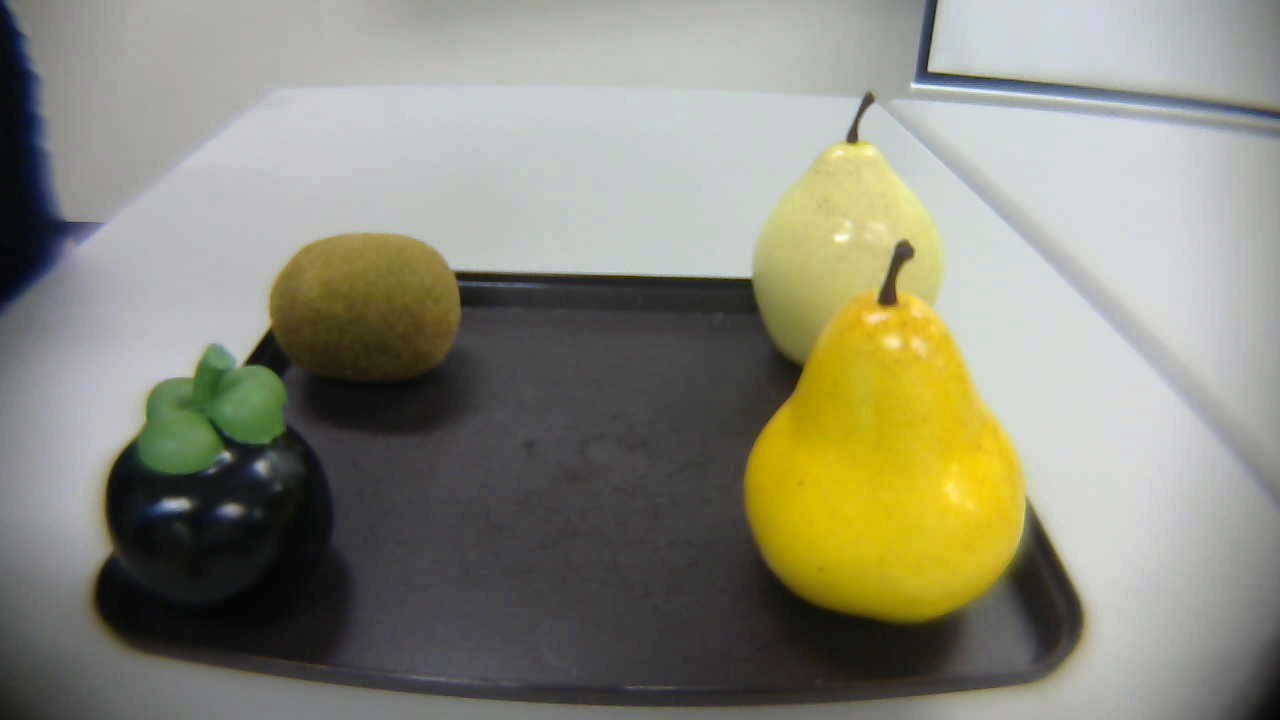kiwi fruit: (250, 223, 465, 409)
mangosteen: (107, 345, 335, 615)
western pear: (728, 94, 955, 384)
yellow pear: (728, 234, 1048, 631)
